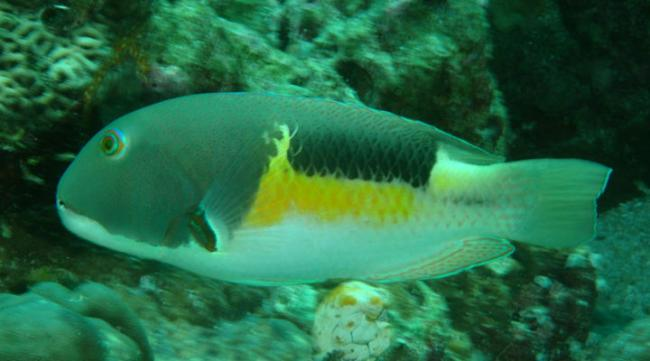fish: (55, 92, 612, 287)
